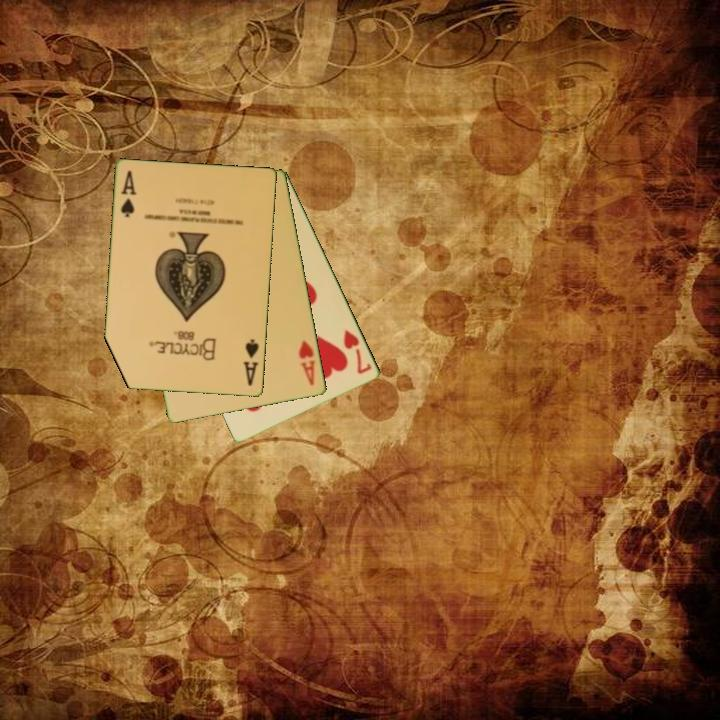7h: (340, 326, 375, 377)
Ah: (295, 337, 318, 389)
As: (240, 336, 262, 389), (117, 167, 139, 220)
